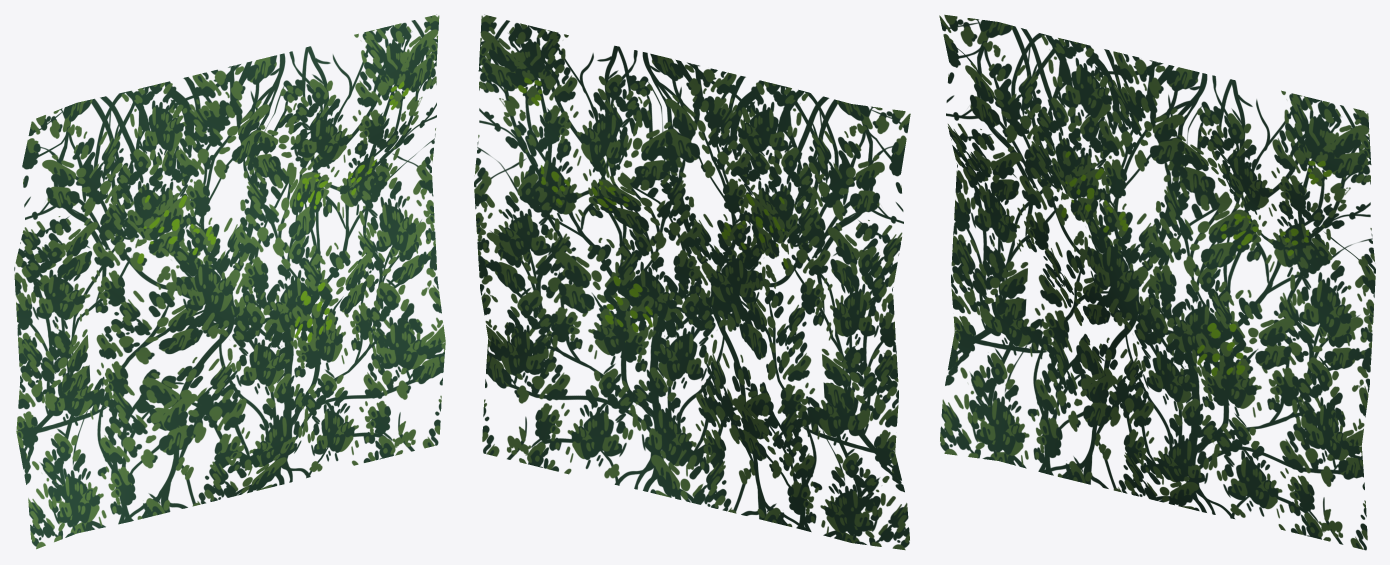
File: Ivy_1.glb
The picture shows the model from 3 angles, left to right: view 1: azimuth 30°, elevation 25°; view 2: azimuth 150°, elevation 25°; view 3: azimuth 330°, elevation 25°; orthographic projection.
Visible parts, largest first — view 1: Ivy_1; view 2: Ivy_1; view 3: Ivy_1.
Boxes of the visible parts, bbox=[...] form: Ivy_1: bbox=[14, 14, 445, 549]; Ivy_1: bbox=[474, 14, 910, 550]; Ivy_1: bbox=[939, 14, 1375, 550].
Bounding box in the file's own units: 2 × 1.99 × 0.1979.
Materials: 1 (1 with a texture image).
